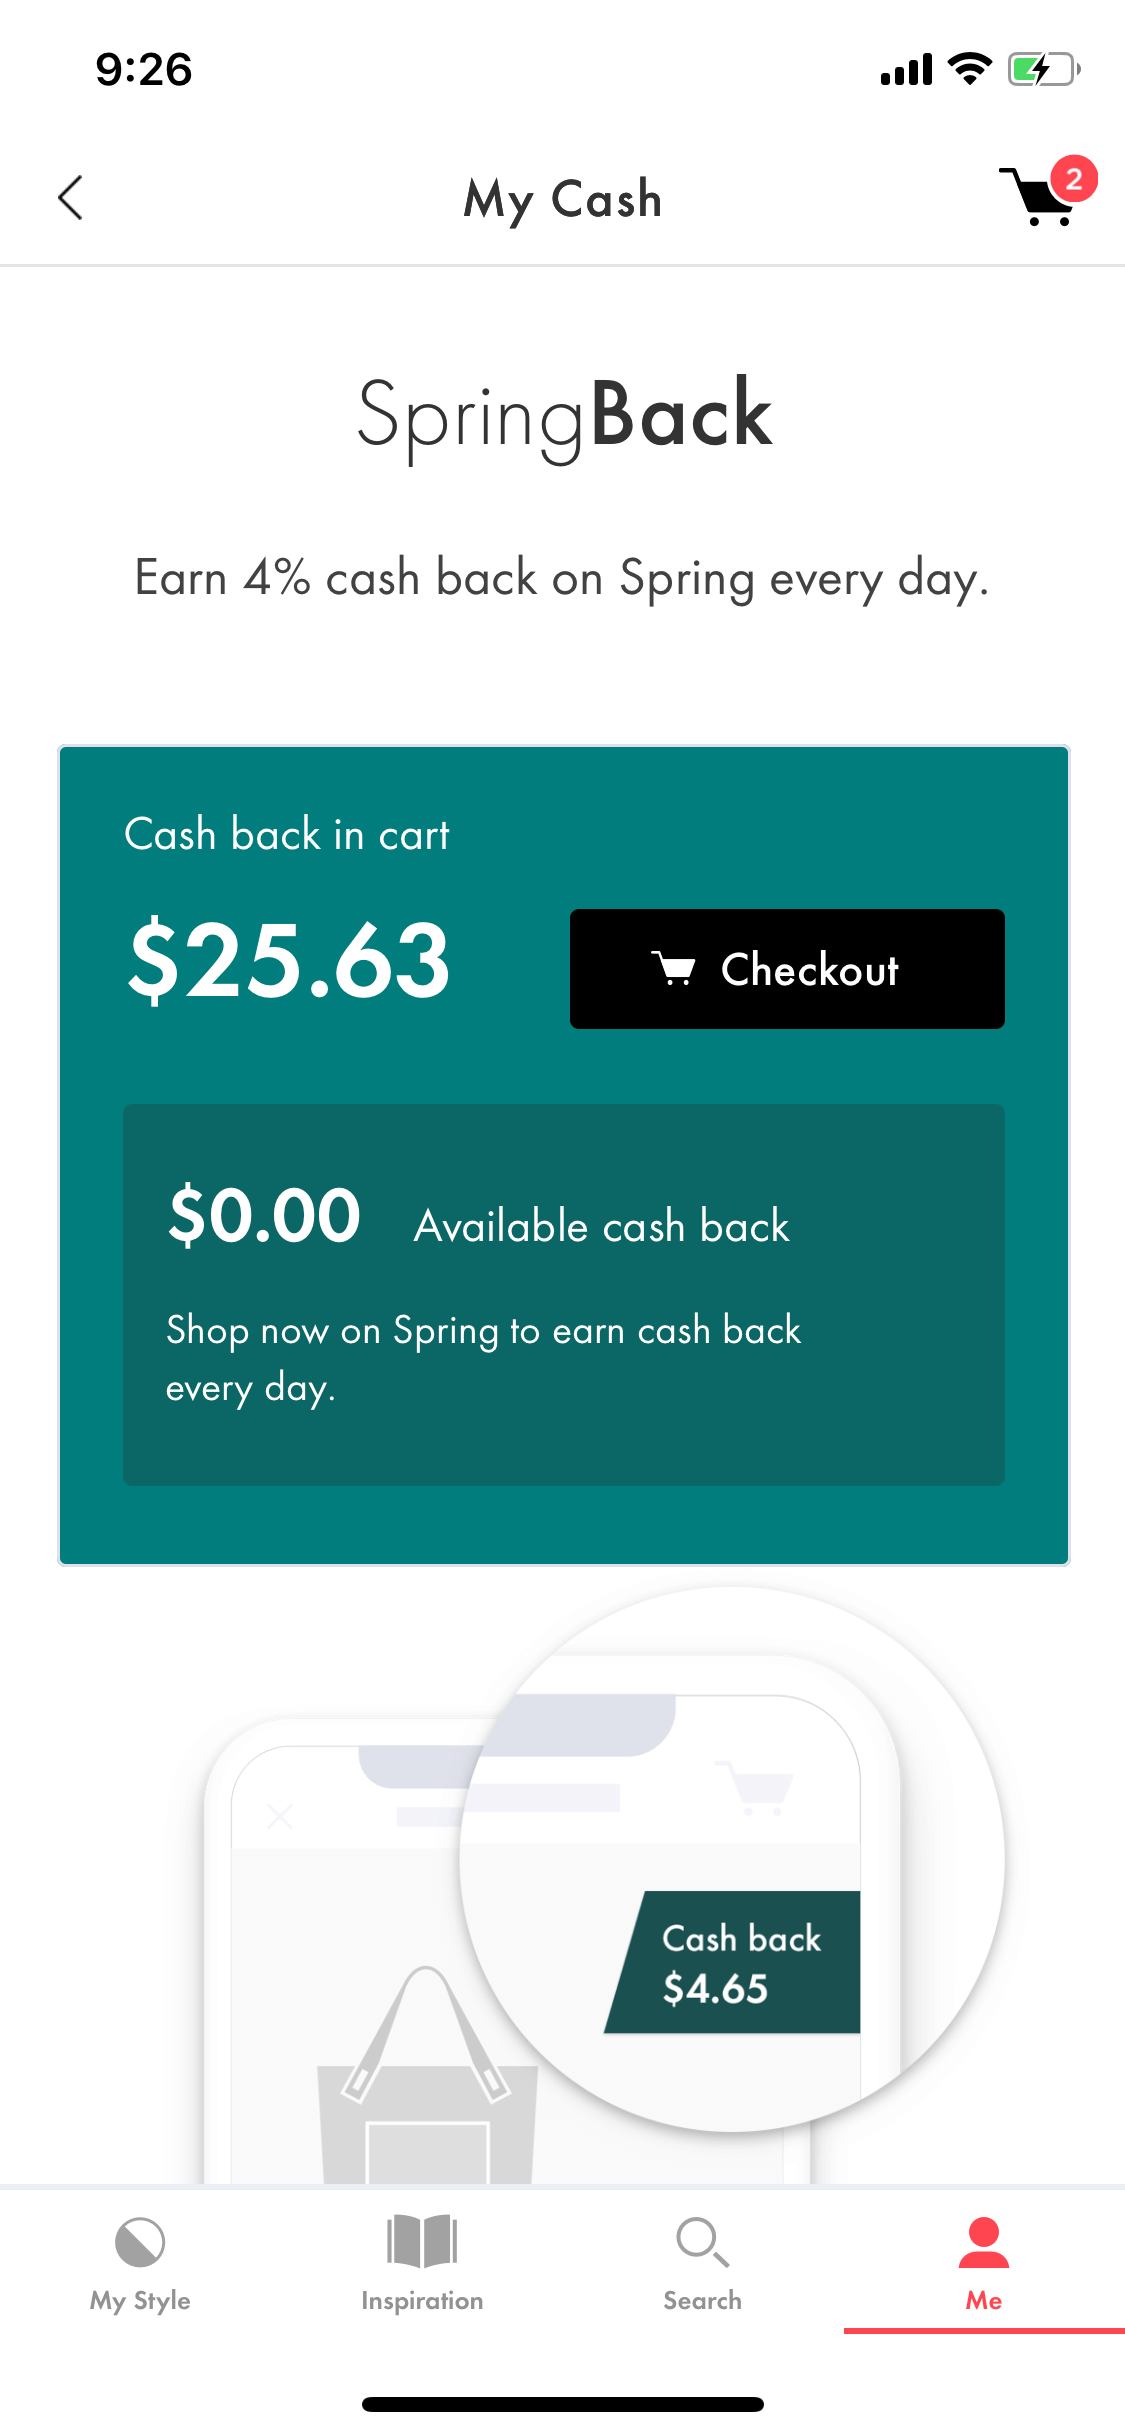Buttons: (556, 890, 1022, 1042), (959, 123, 1120, 253), (19, 124, 138, 256)
